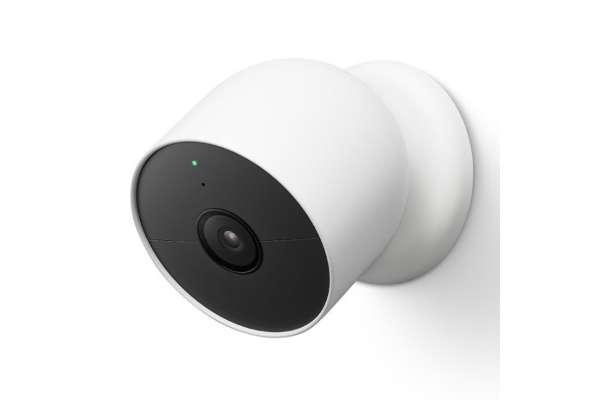maru: (127, 60, 474, 342)
